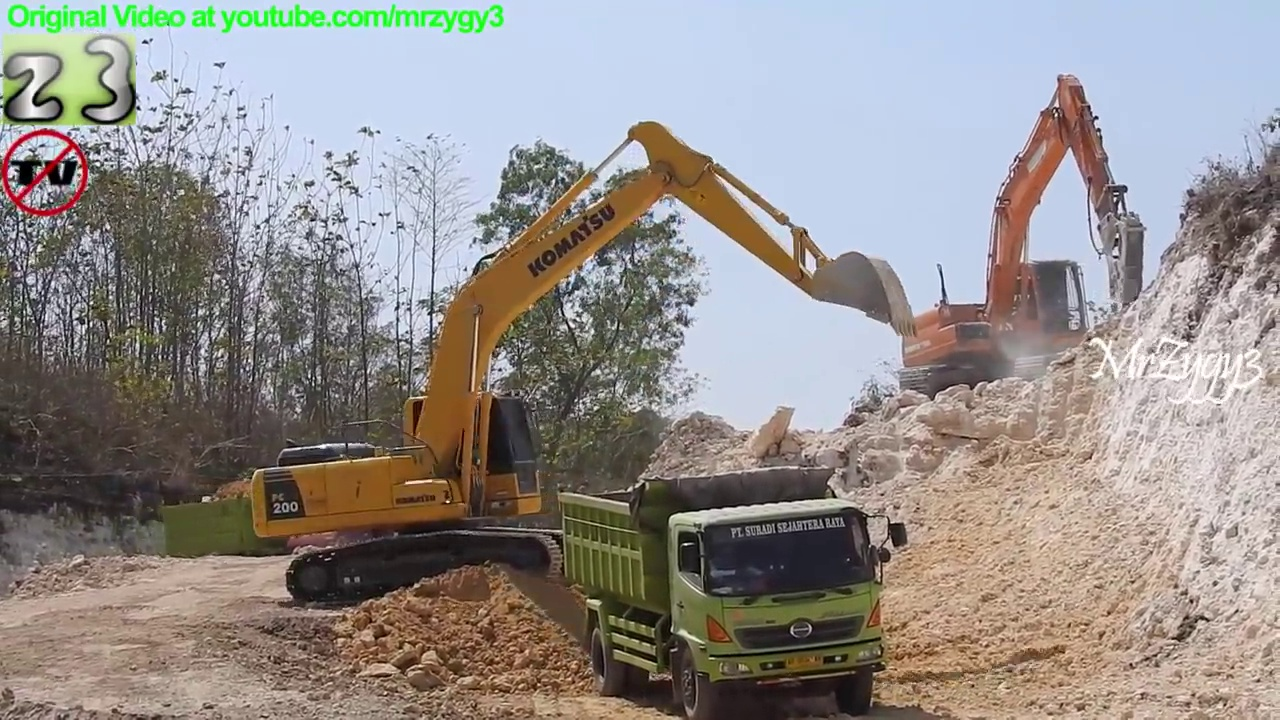excavator: (246, 117, 924, 609), (895, 69, 1154, 403)
truck: (554, 461, 908, 720), (154, 438, 398, 581)
